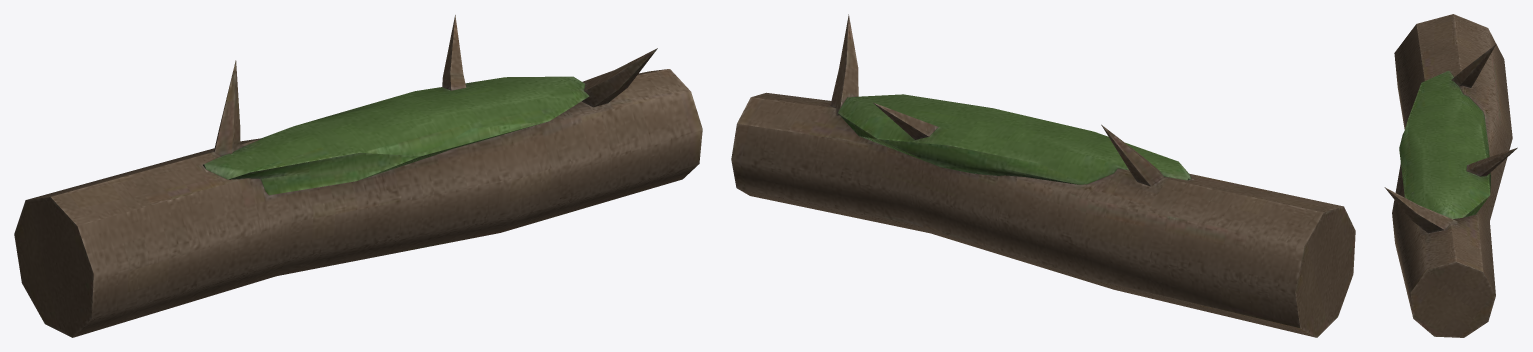
Rendered from tronco_caido.glb.
The picture shows the model from 3 angles, left to right: view 1: azimuth 30°, elevation 25°; view 2: azimuth 150°, elevation 25°; view 3: azimuth 270°, elevation 25°; orthographic projection. The views are drawn at different scales.
Visible parts, largest first — view 1: tronco_caido; view 2: tronco_caido; view 3: tronco_caido.
Boxes of the visible parts, box(x1,y1,x2,y2) form: tronco_caido: box(14, 15, 702, 337); tronco_caido: box(731, 14, 1355, 337); tronco_caido: box(1384, 14, 1517, 337).
Size of the model in its own units: 2.63 by 0.7902 by 0.6454.
1 material, 1 textured.
